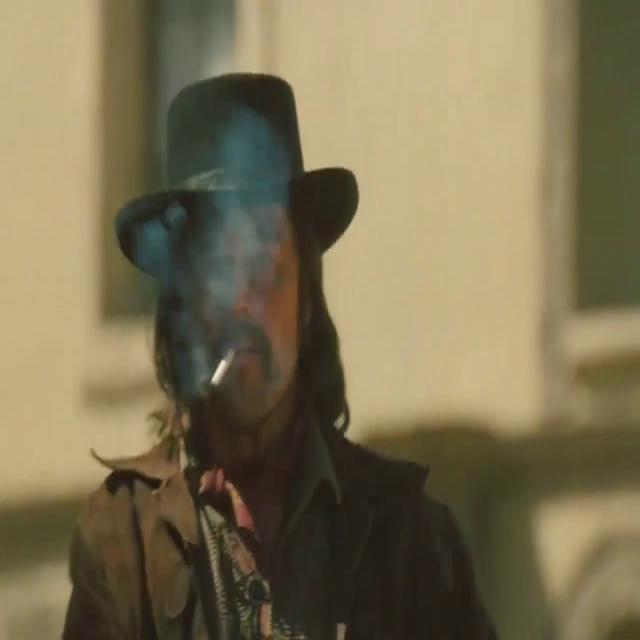Smooking: (203, 325, 235, 404)
